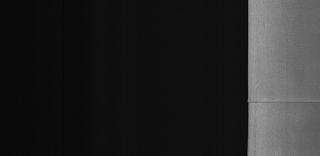welding line: (248, 98, 320, 106)
